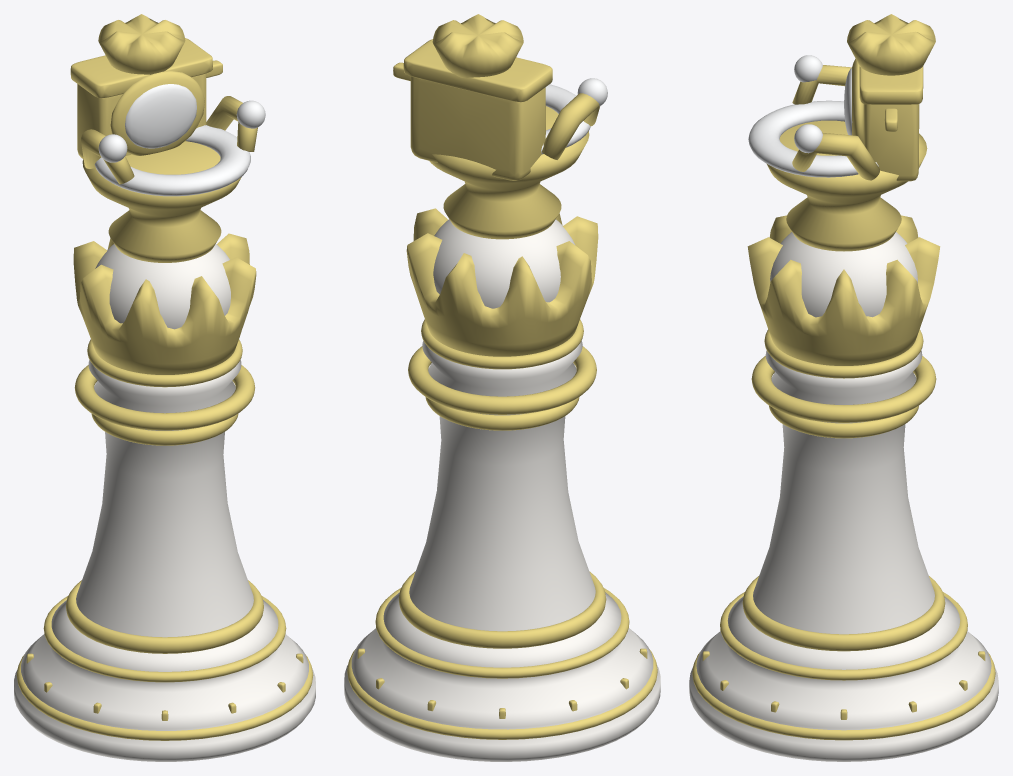
The model's file is king-classic-cesso.glb.
3 renders of one model, left to right at view 1: azimuth 30°, elevation 25°; view 2: azimuth 150°, elevation 25°; view 3: azimuth 270°, elevation 25°, orthographic. The views are drawn at different scales.
Visible parts, largest first — view 1: king-classic-cesso; view 2: king-classic-cesso; view 3: king-classic-cesso.
Part boxes in pixels (x1,y1,x2,y2): king-classic-cesso: (14, 14, 315, 761); king-classic-cesso: (344, 14, 660, 761); king-classic-cesso: (689, 14, 998, 761).
Size of the model in its own units: 0.75 by 1.8 by 0.75.
